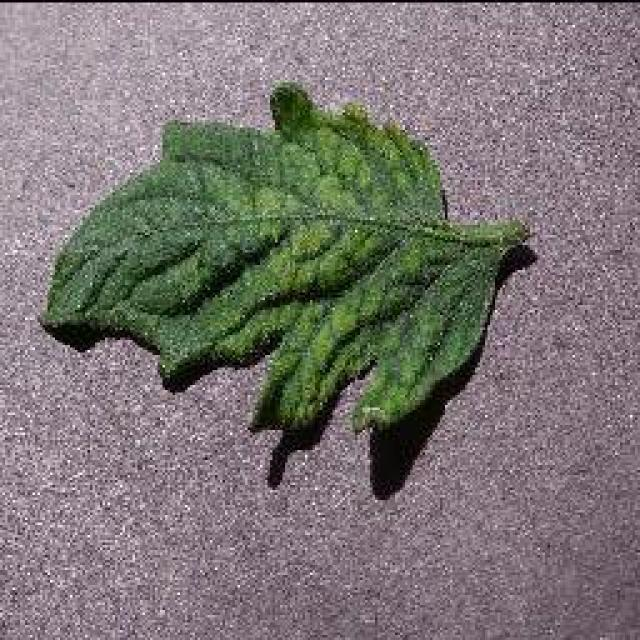Tomato___Tomato_mosaic_virus: (42, 82, 528, 438)
